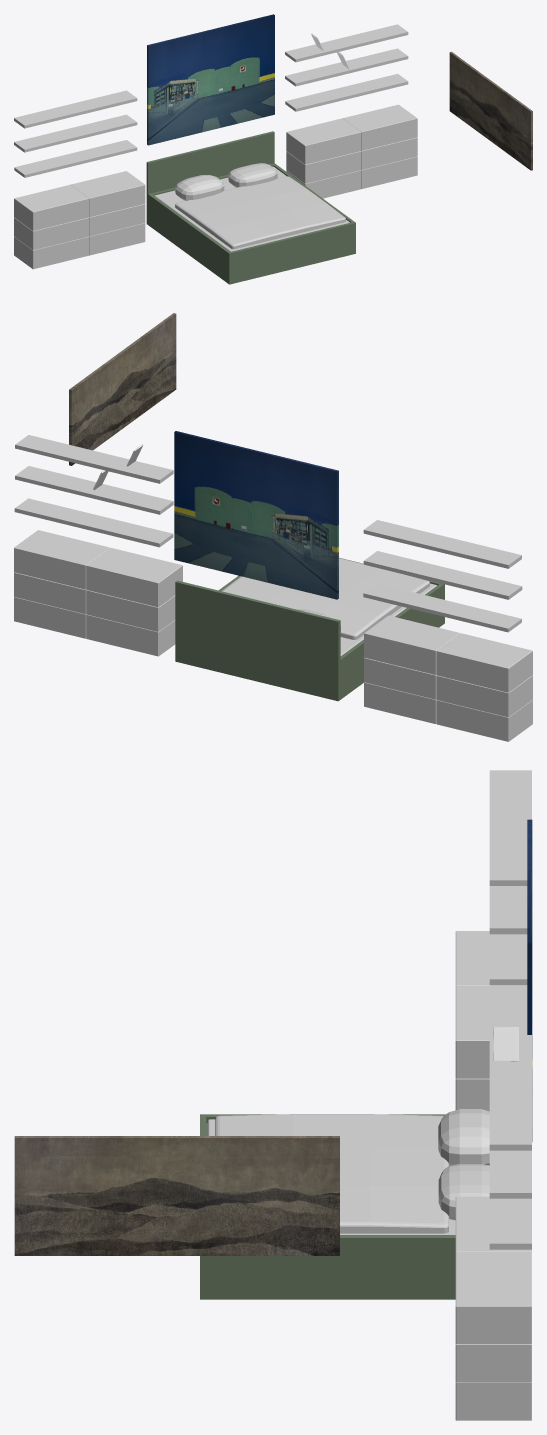
The model's file is SchlafzimmerLayout_02.gltf.
3 renders of one model, top to bottom at view 1: azimuth 30°, elevation 25°; view 2: azimuth 150°, elevation 25°; view 3: azimuth 270°, elevation 25°, orthographic. The views are drawn at different scales.
Visible parts, largest first — view 1: Bild.007, Curve.067, BettZeugs.015, Bild.006, Curve.075, Curve.072, Curve.074, Curve.073, Curve.071, Curve.076, Regal.014, Regal.015 (+7 smaller); view 2: Bild.007, Curve.067, Bild.006, Curve.072, Curve.075, BettZeugs.015, Curve.073, Curve.071, Curve.074, Curve.076, Regal.014, Regal.017 (+4 smaller); view 3: Bild.006, BettZeugs.015, Curve.067, Curve.075, Curve.072, Regal.015, Regal.018, Curve.074, Curve.076, BettZeugs.013, Regal.017, Regal.019 (+6 smaller).
Boxes of the visible parts, x1,y1,x2,y2 form: Bild.007: [147, 14, 274, 145]; Curve.067: [146, 131, 355, 284]; BettZeugs.015: [175, 176, 345, 249]; Bild.006: [449, 51, 532, 170]; Curve.075: [286, 104, 417, 164]; Curve.072: [14, 171, 145, 230]; Curve.074: [286, 137, 417, 183]; Curve.073: [14, 204, 145, 250]; Curve.071: [14, 223, 145, 269]; Curve.076: [286, 156, 417, 198]; Regal.014: [14, 114, 137, 152]; Regal.015: [14, 90, 137, 128]; Bild.007: [174, 431, 338, 599]; Curve.067: [175, 557, 444, 701]; Bild.006: [69, 313, 176, 465]; Curve.072: [364, 615, 532, 692]; Curve.075: [14, 530, 182, 607]; BettZeugs.015: [222, 558, 429, 639]; Curve.073: [364, 657, 532, 717]; Curve.071: [364, 682, 532, 741]; Curve.074: [14, 572, 175, 631]; Curve.076: [14, 597, 175, 656]; Regal.014: [363, 551, 522, 599]; Regal.017: [14, 498, 173, 547]; Bild.006: [14, 1136, 339, 1255]; BettZeugs.015: [215, 1114, 448, 1233]; Curve.067: [200, 1114, 455, 1299]; Curve.075: [455, 1196, 531, 1344]; Curve.072: [455, 931, 527, 1078]; Regal.015: [489, 770, 531, 885]; Regal.018: [489, 1035, 531, 1150]; Curve.074: [455, 1344, 531, 1382]; Curve.076: [455, 1382, 531, 1420]; BettZeugs.013: [438, 1109, 489, 1165]; Regal.017: [489, 1198, 531, 1249]; Regal.019: [489, 1150, 531, 1198].
Bounding box in the file's own units: 5.54 × 2.42 × 3.18.
5 materials, 2 textured.
